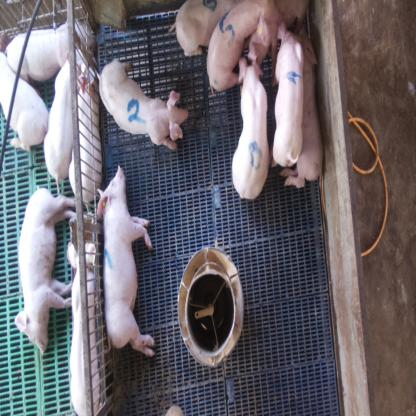1: (281, 70, 302, 86)
2: (126, 98, 149, 128)
5: (219, 11, 236, 45)
N-A: (249, 142, 262, 169)
